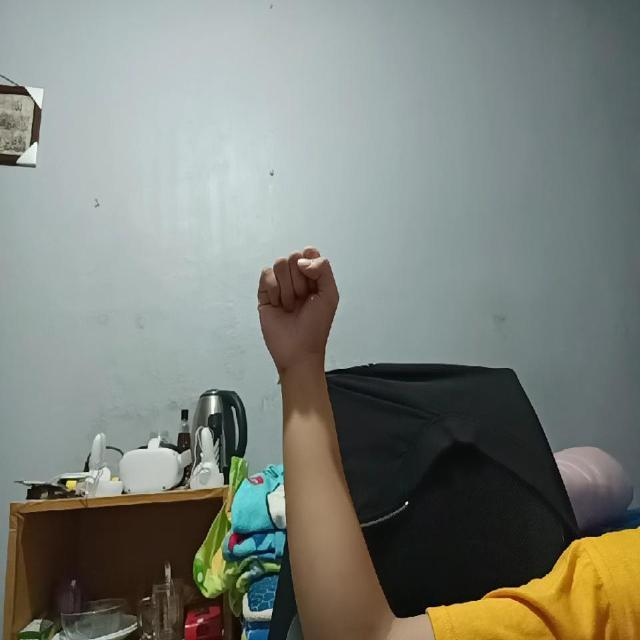fist: (256, 240, 341, 380)
